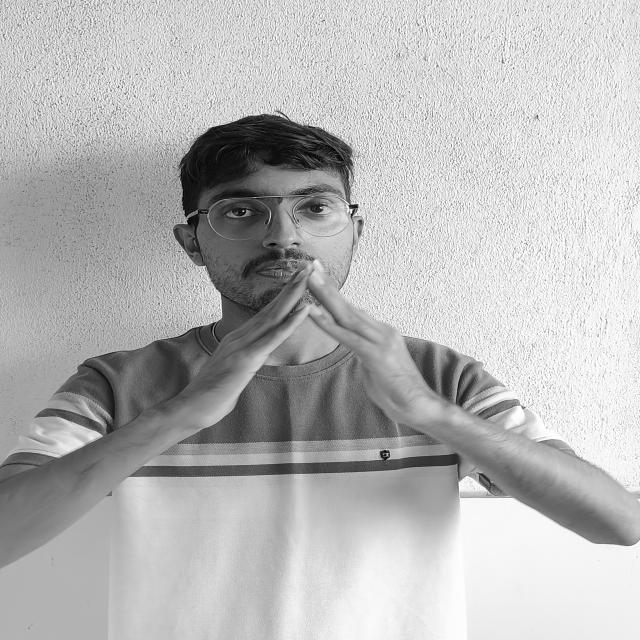Home: (142, 253, 488, 459)
